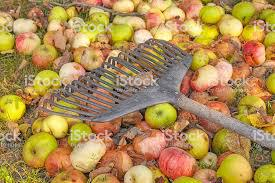damaged_apple: (153, 144, 198, 174), (210, 127, 256, 156), (194, 99, 237, 130), (72, 138, 109, 173), (131, 126, 165, 154), (186, 63, 221, 89), (212, 33, 247, 59), (0, 88, 27, 121), (26, 68, 63, 92), (12, 31, 46, 56), (101, 19, 134, 44), (101, 148, 133, 173), (75, 43, 105, 69), (43, 144, 75, 168), (183, 46, 218, 67), (240, 38, 265, 66), (31, 43, 57, 68), (178, 17, 208, 38), (232, 1, 257, 25), (198, 4, 225, 23)
